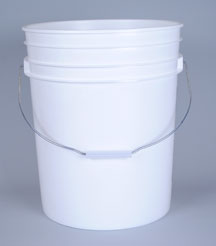Rec_Plastic: (13, 2, 191, 233)
